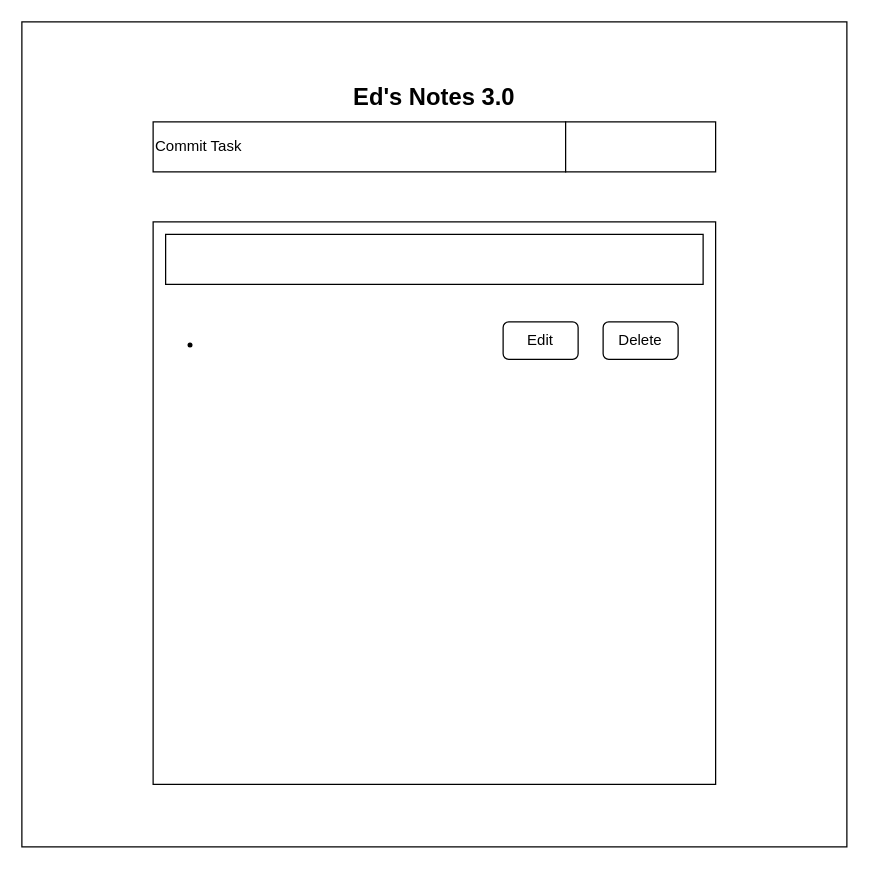
Some shapes in this 869 by 869 pixel diagram are drawn without their labels. The centre of each missing label's shape, as x and y in pixels:
"Commit" goes at (640,146).
"Tasks Edit Delete" goes at (433,258).
